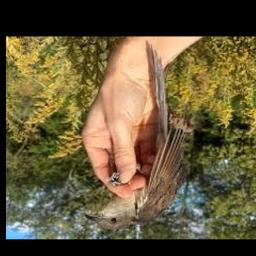Cuckoo: (84, 44, 189, 231)
